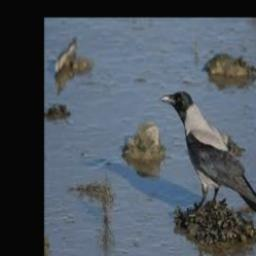Crow: (158, 91, 256, 216)
